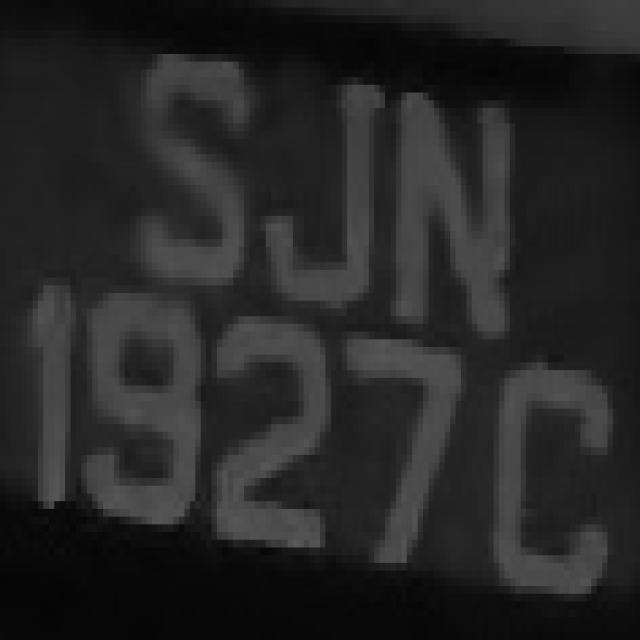1: (22, 231, 86, 571)
2: (222, 293, 352, 586)
7: (352, 332, 472, 586)
9: (92, 254, 206, 563)
C: (483, 308, 618, 602)
J: (271, 54, 385, 324)
N: (380, 69, 526, 347)
S: (147, 61, 260, 332)
